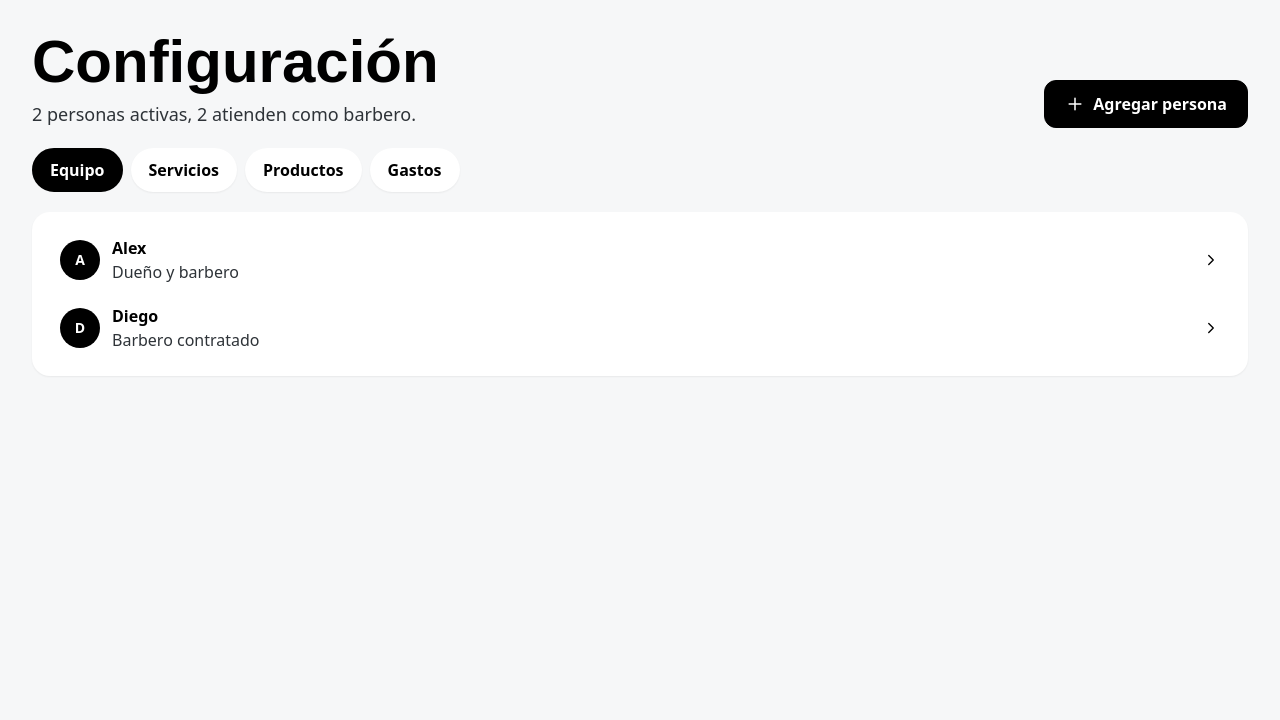
Test: ConfigurationPage › gathers everything about a person in one file
What coordinates should you click on to do the following:
click the button "D Diego Barbero contratado"
I would click on:
 (80, 328)
Its box is [48, 296, 1232, 360].
(page scrolled)
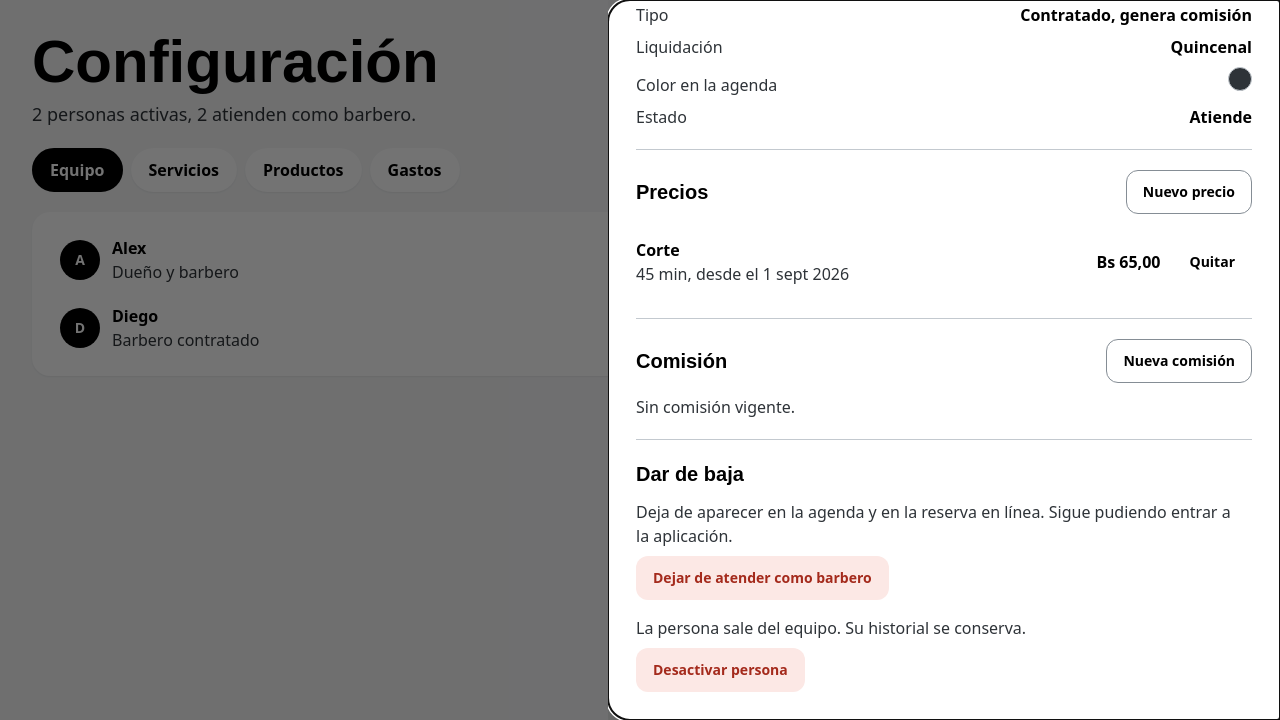
Now the text "Contratado, genera comisión" is shown, box [1020, 3, 1252, 27]
Now the text "Bs 65,00" is shown, box [1096, 250, 1160, 274]
Now the text "45 min, desde el 1 sept 2026" is shown, box [636, 263, 849, 285]
